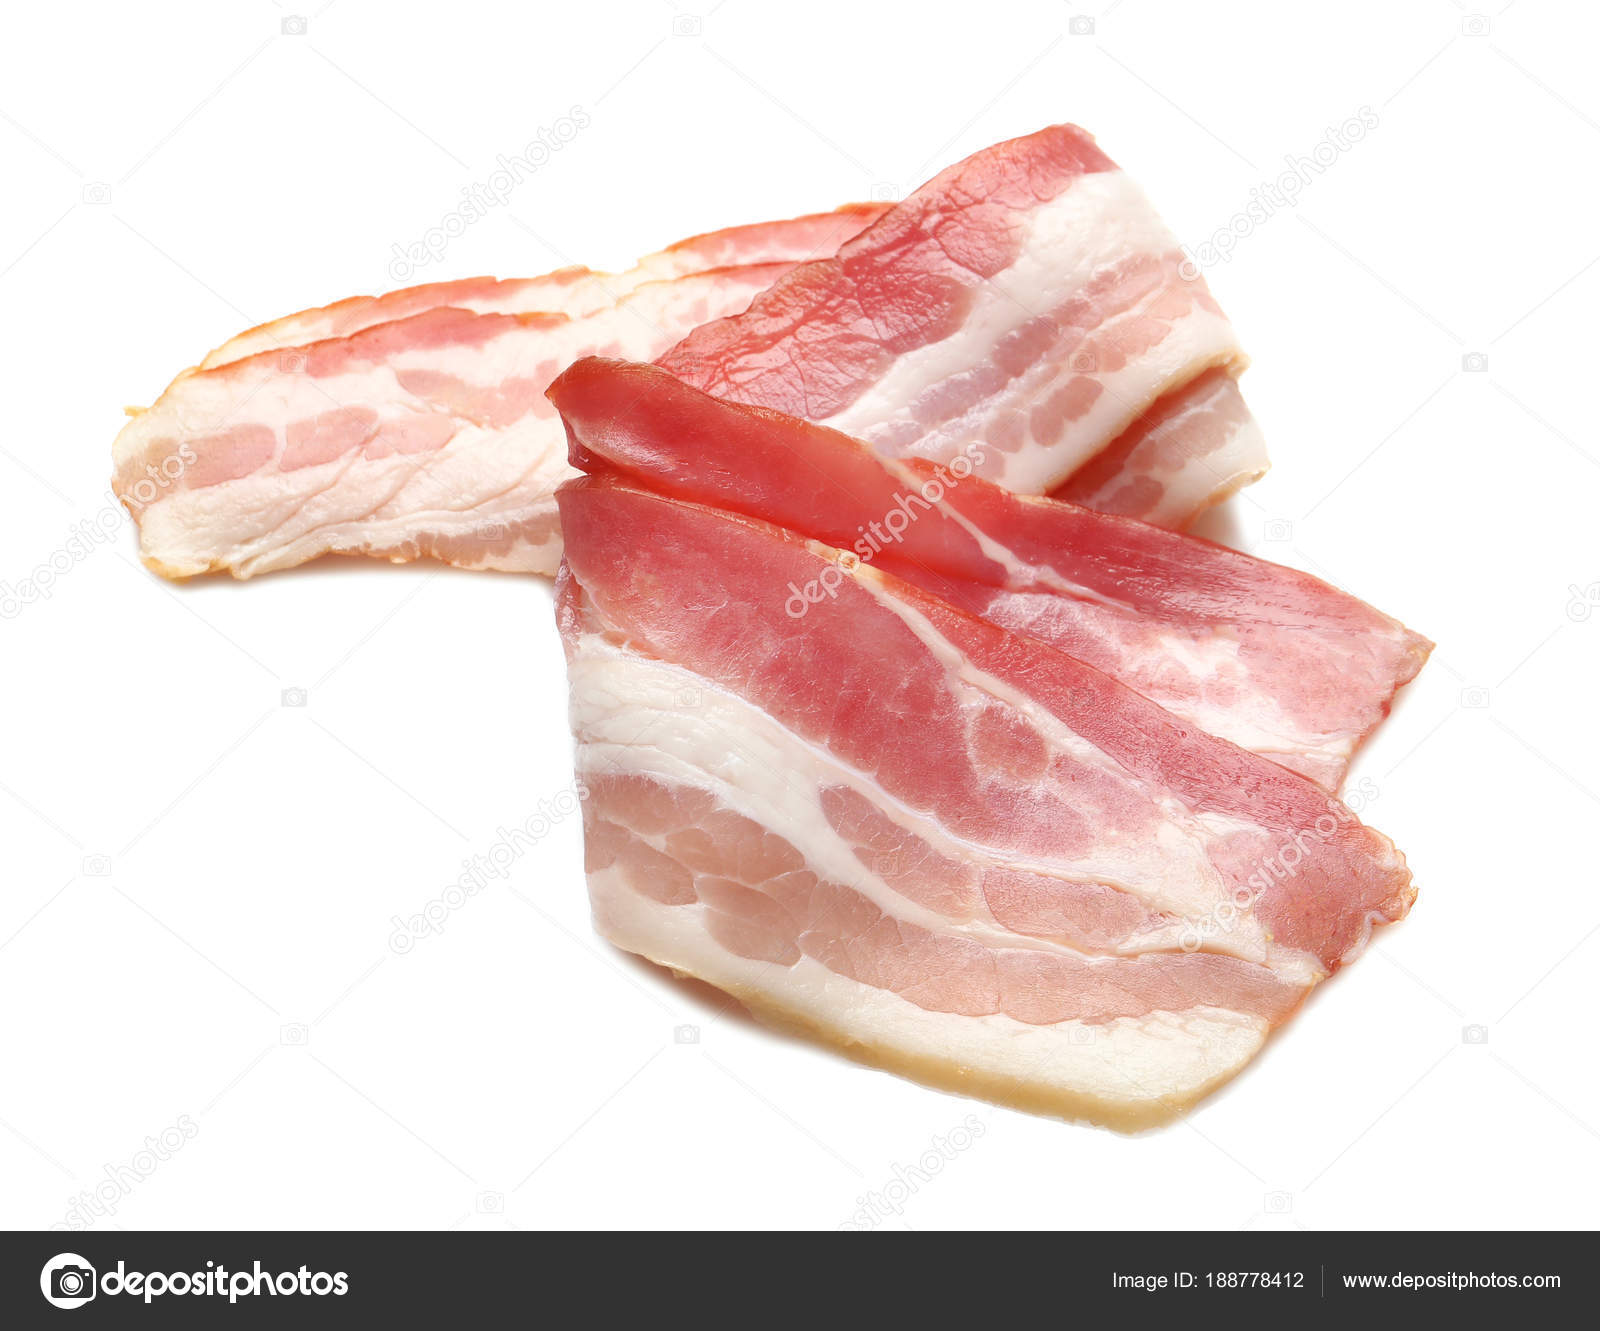bacon: (120, 147, 1374, 1081)
